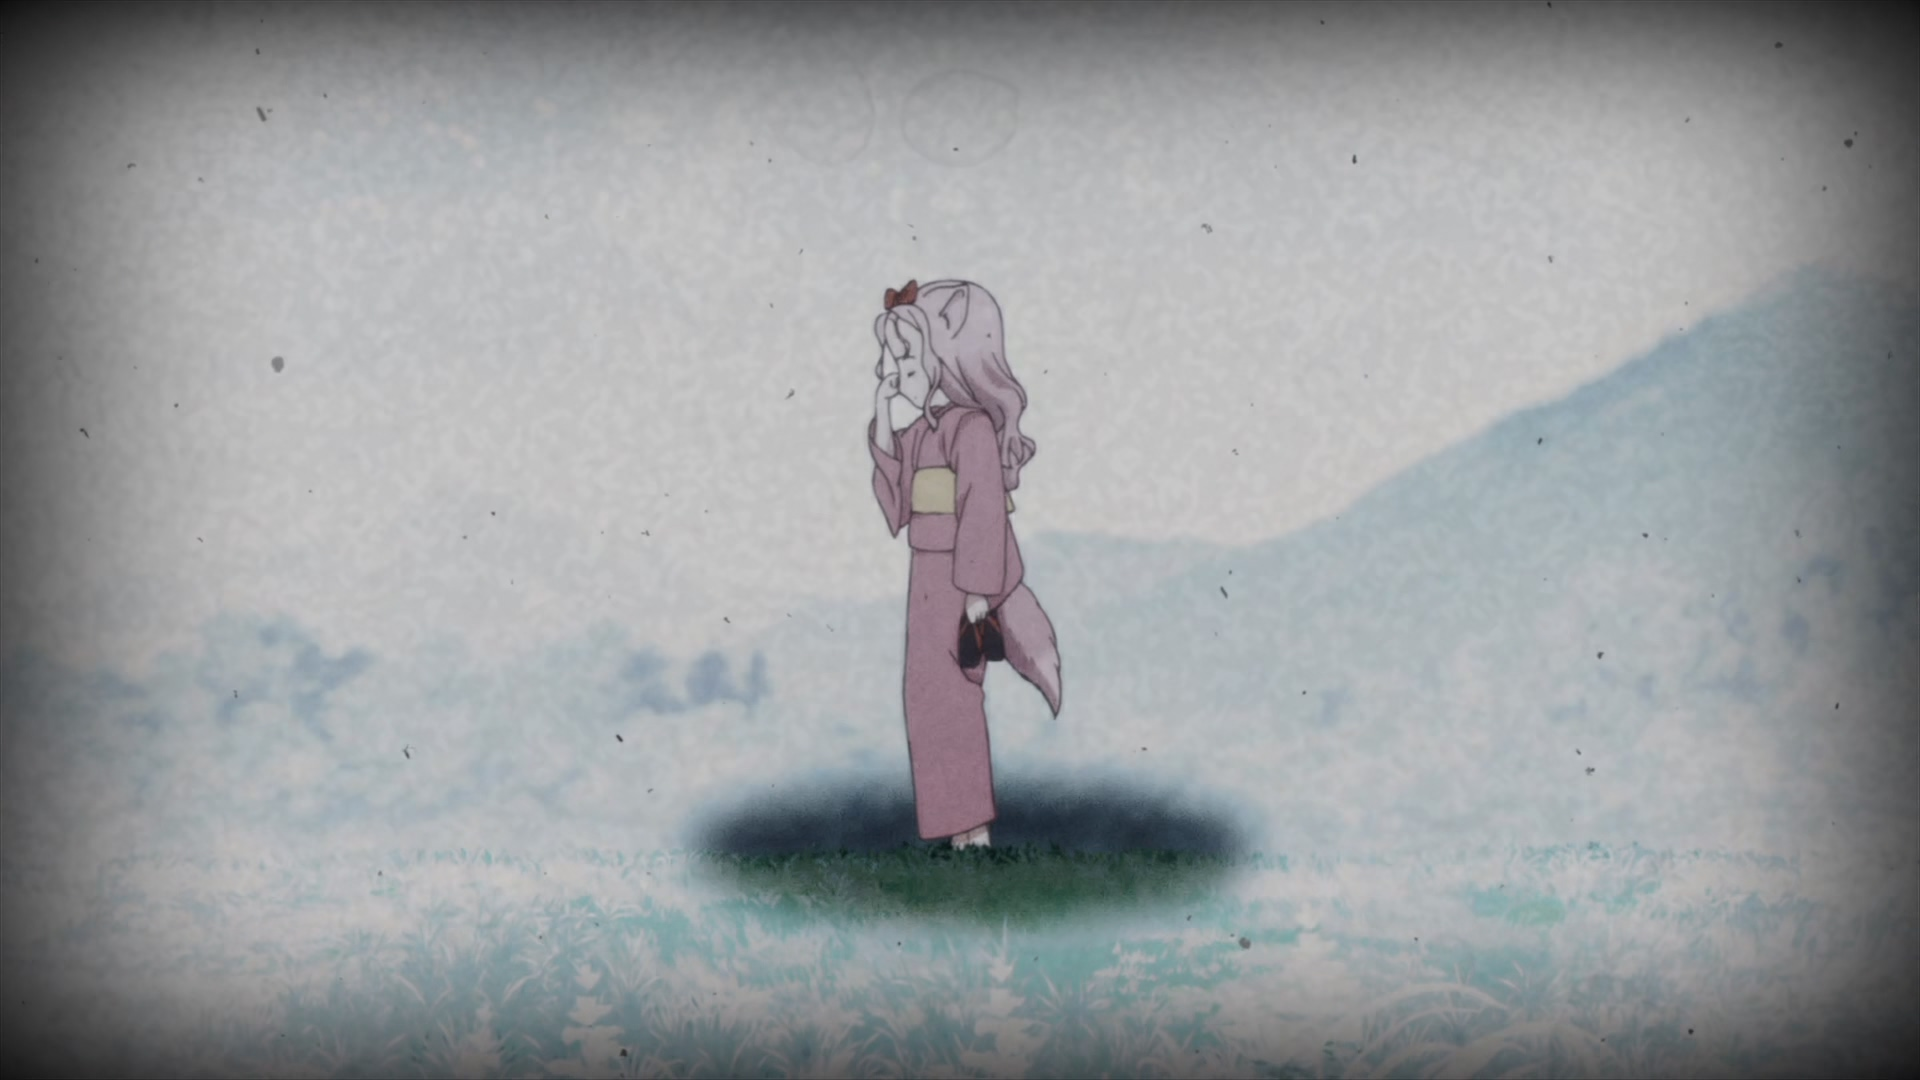莲: (866, 277, 1062, 851)
